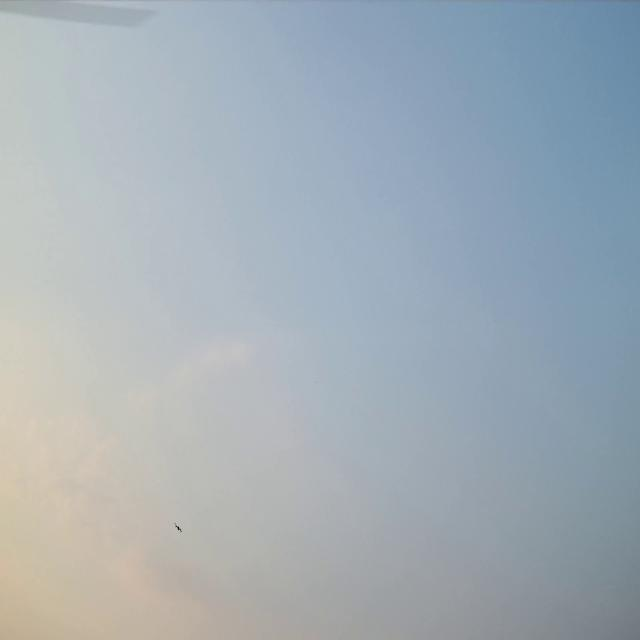UAV: (174, 522, 182, 534)
